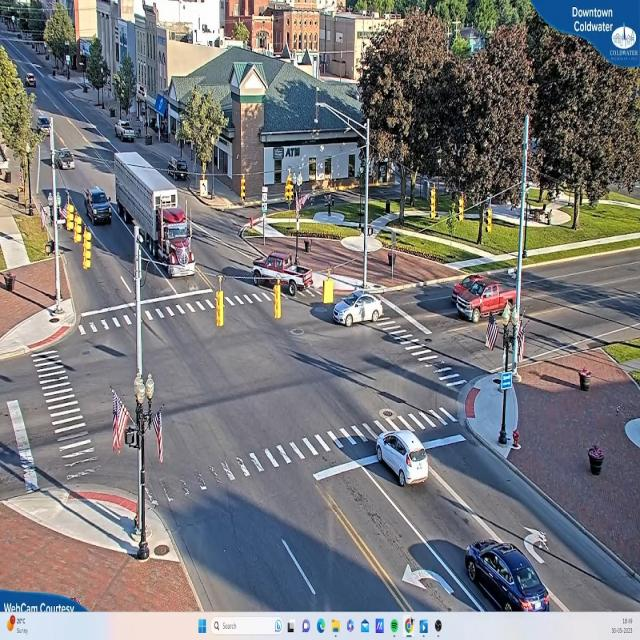car: (464, 542, 553, 611), (454, 276, 522, 323), (375, 429, 430, 487), (334, 287, 384, 328), (89, 187, 112, 222), (116, 122, 138, 144)
truck: (115, 150, 194, 282)
